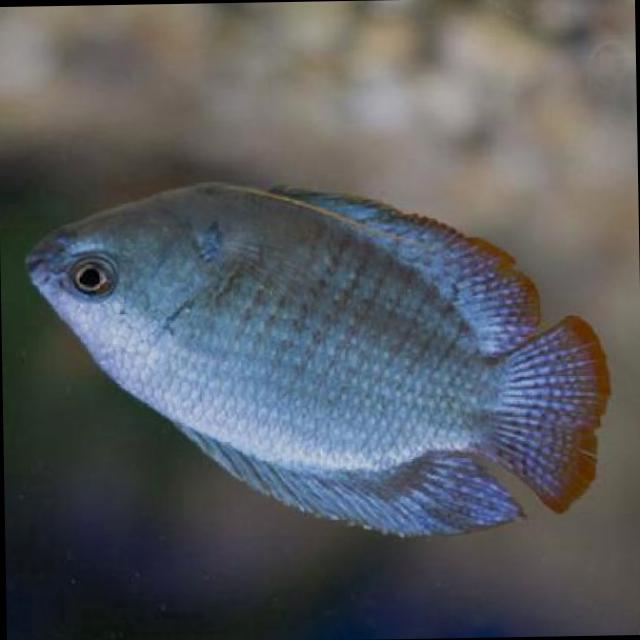Gourami: (22, 176, 612, 542)
